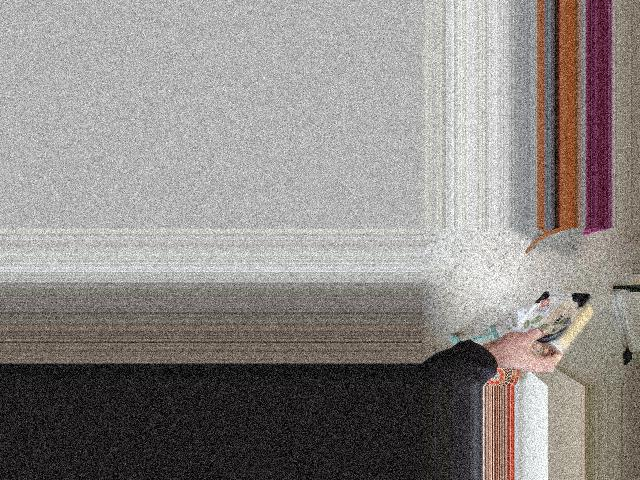cheese: (520, 267, 613, 378)
